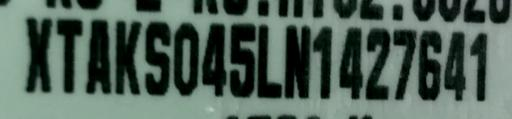letter: (22, 15, 56, 94), (112, 21, 142, 96), (170, 21, 200, 96), (414, 27, 444, 102), (54, 17, 82, 94), (84, 18, 112, 95), (144, 20, 172, 97), (229, 21, 257, 98), (201, 21, 229, 96), (284, 25, 312, 100), (336, 26, 364, 101), (256, 24, 284, 97), (390, 26, 416, 101), (365, 26, 391, 99), (442, 30, 468, 101), (467, 29, 491, 104), (313, 25, 335, 96)
